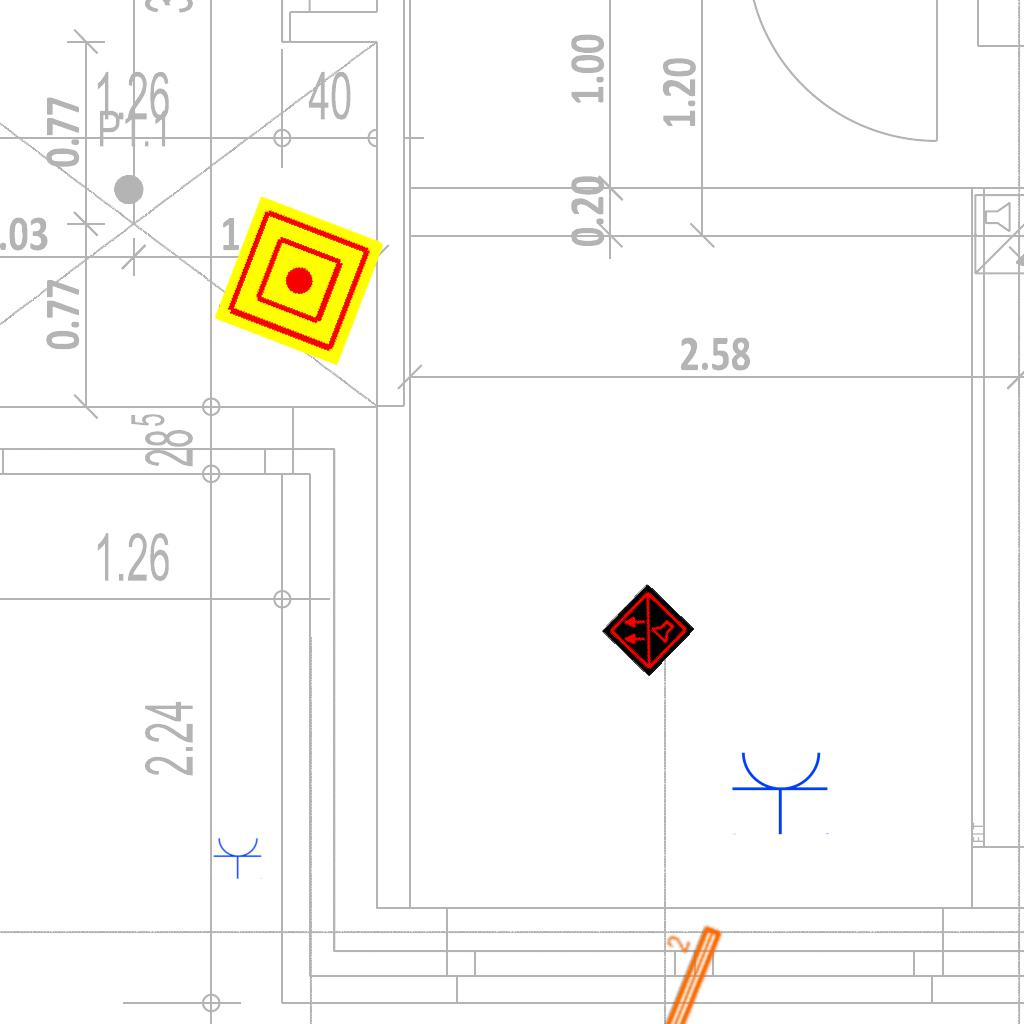Ambulanz_Pendelleuchte_LED: (533, 909, 730, 1024)
NAM-Nichtautomatischer_Melder: (213, 195, 385, 367)
OKW_Multisensormelder_(Kombination_optischer_Rauch-Kahlenmonoxid_Waerme-Melder): (601, 583, 695, 677)
Schukosteckdose_einfach: (731, 748, 831, 835), (213, 836, 263, 879)
